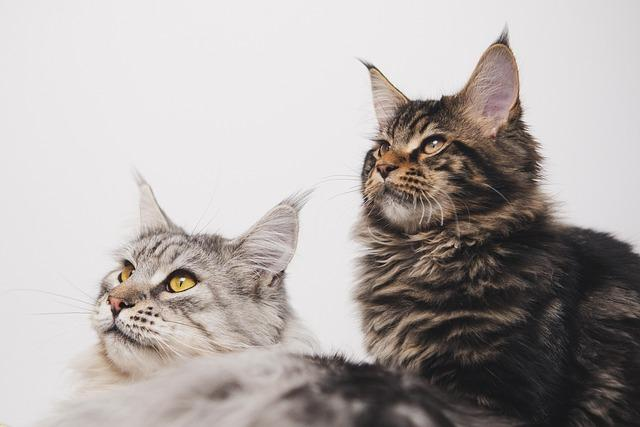Non_Gorille: (60, 22, 640, 427)
